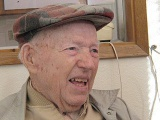male: (36, 26, 99, 106)
